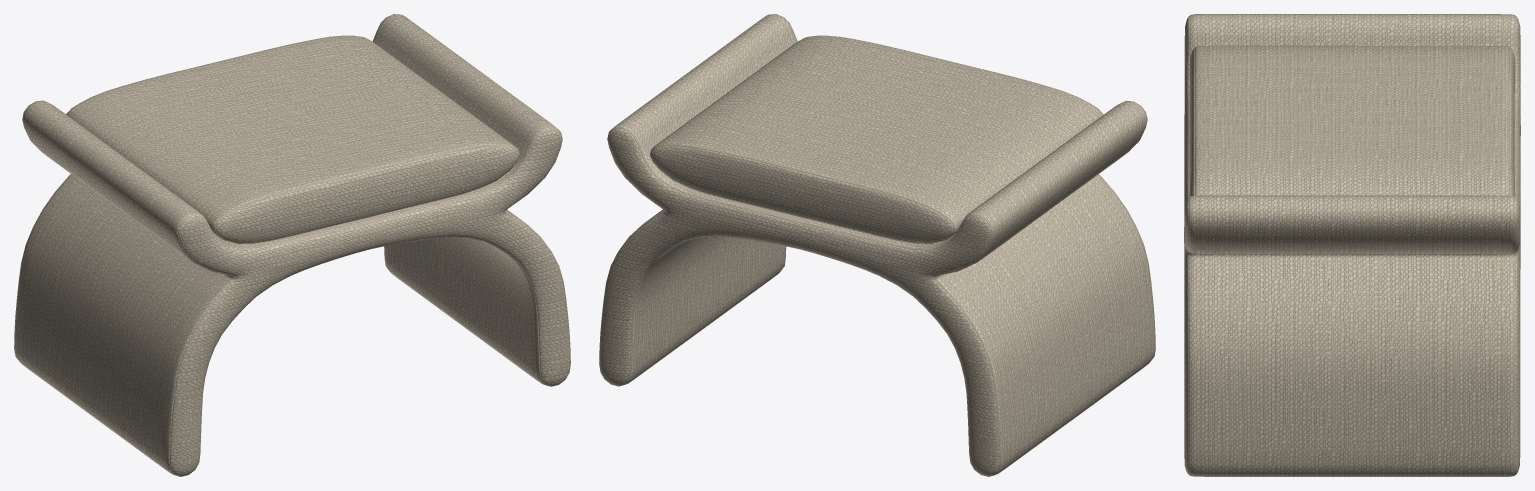
The model's file is c0afe8be-94f7-4c7d-929c-8d8d0a36d7de.glb.
3 views of the same model, side by side, from view 1: azimuth 30°, elevation 25°; view 2: azimuth 150°, elevation 25°; view 3: azimuth 270°, elevation 25° (orthographic). The views are drawn at different scales.
Visible parts, largest first — view 1: Modern Fabric Pouf; view 2: Modern Fabric Pouf; view 3: Modern Fabric Pouf.
Part boxes in pixels (x1=…): Modern Fabric Pouf: x1=14, y1=14, x2=570, y2=476; Modern Fabric Pouf: x1=599, y1=14, x2=1155, y2=476; Modern Fabric Pouf: x1=1184, y1=14, x2=1520, y2=476.
Size of the model in its own units: 0.7096 by 0.439 by 0.4896.
1 material, 1 textured.
